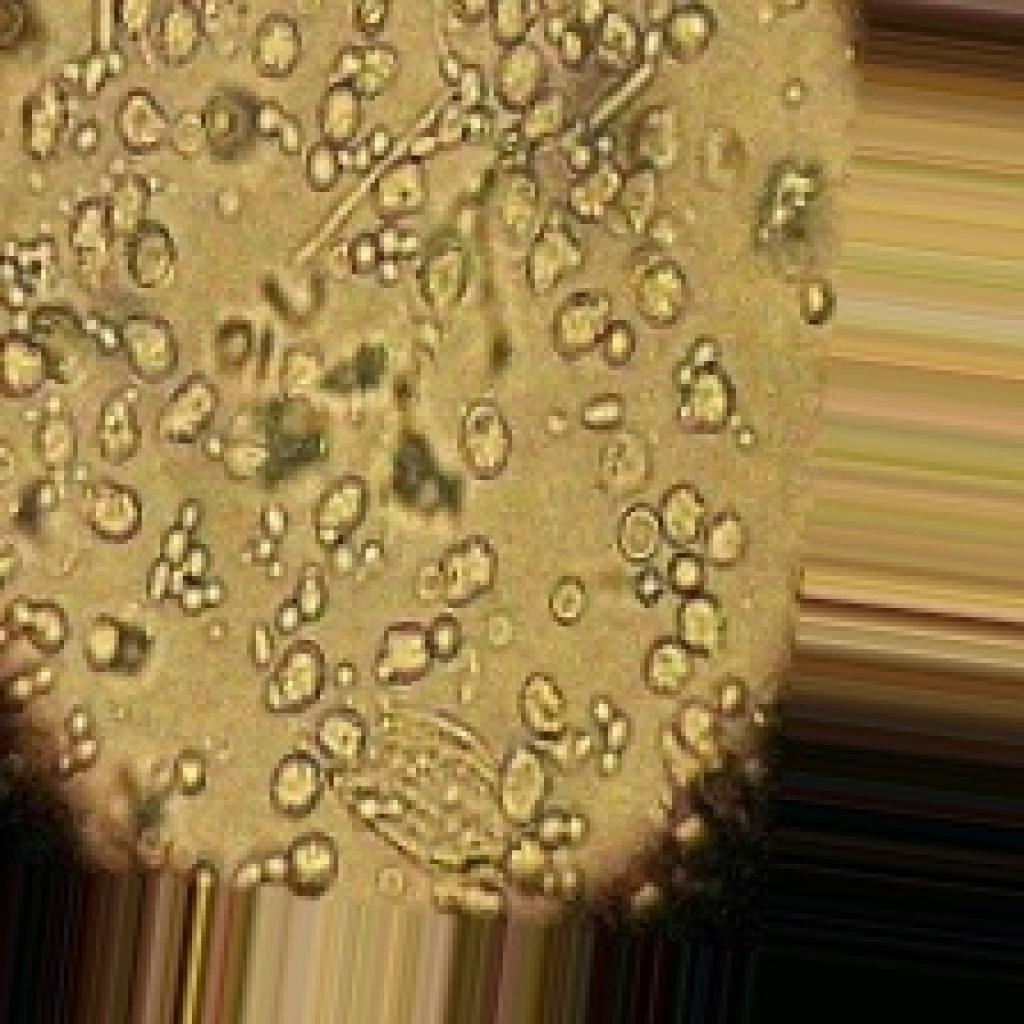Yeast: (0, 4, 845, 998)
